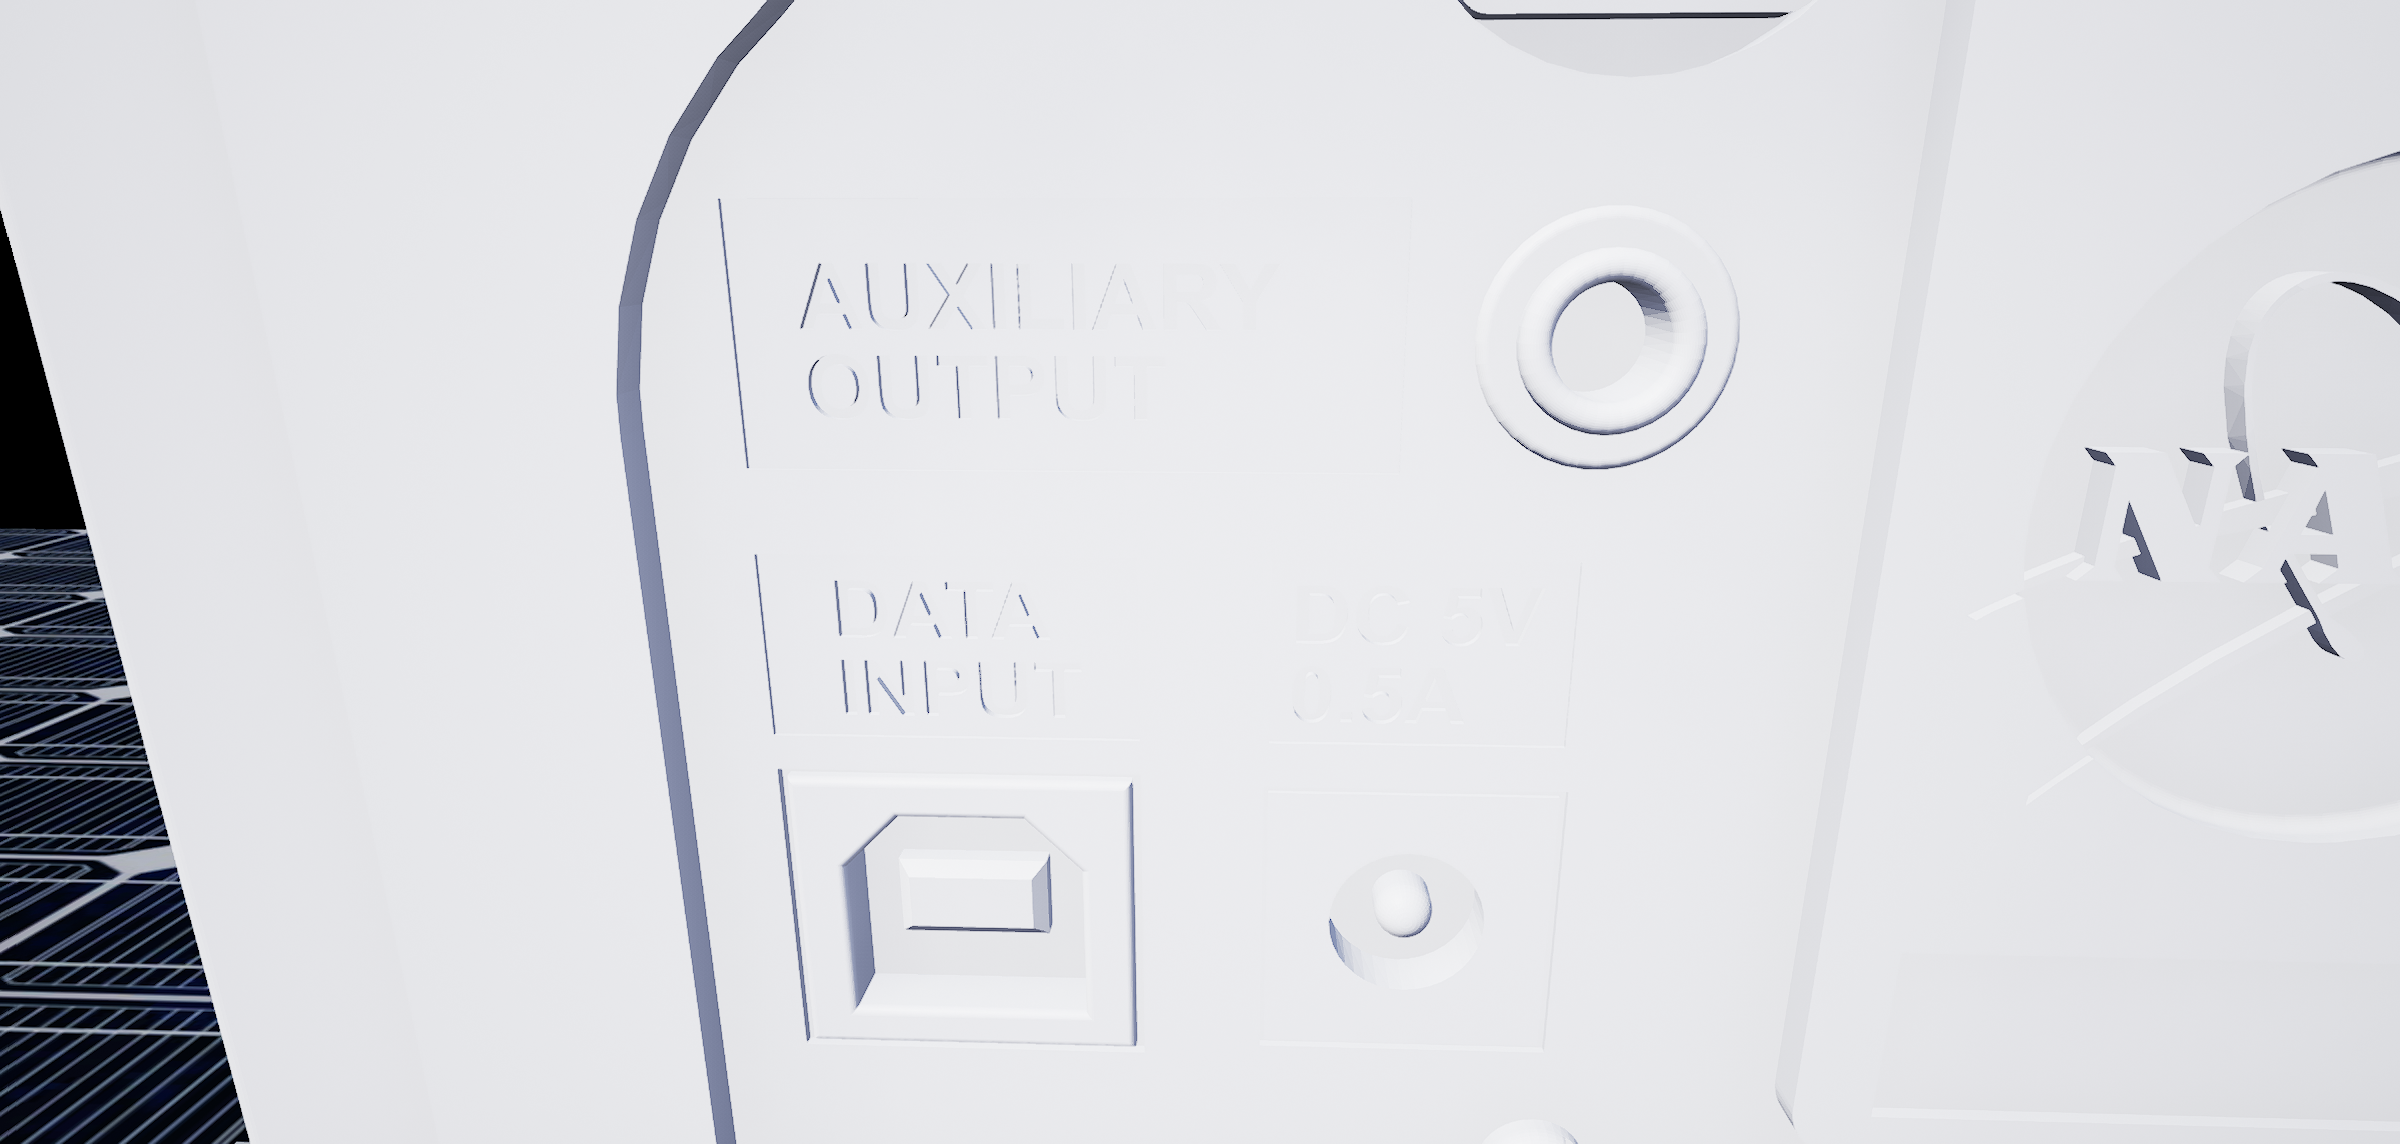aux: (1451, 176, 1757, 499)
dc: (1306, 830, 1503, 1014)
usb: (823, 799, 1117, 1025)
